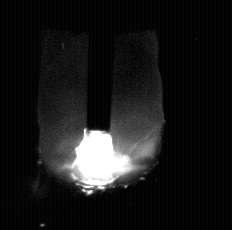arame: (88, 0, 112, 135)
poca: (38, 0, 162, 230)
